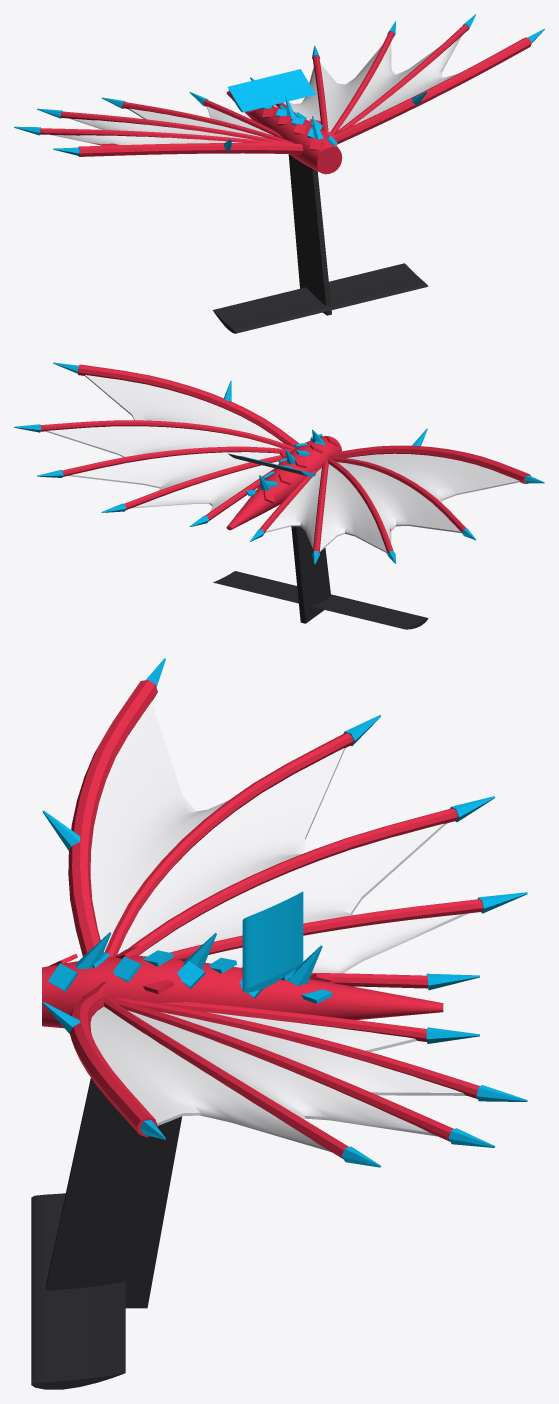
Rendered from dragon.glb.
The picture shows the model from 3 angles, top to bottom: view 1: azimuth 30°, elevation 25°; view 2: azimuth 150°, elevation 25°; view 3: azimuth 270°, elevation 25°; orthographic projection. The views are drawn at different scales.
Visible parts, largest first — view 1: RearWing_dragon, DRSFlap_dragon; view 2: RearWing_dragon, DRSFlap_dragon; view 3: RearWing_dragon, DRSFlap_dragon.
Part boxes in pixels (x1,y1,x2,y2): RearWing_dragon: (14,14,544,333); DRSFlap_dragon: (228,69,315,112); RearWing_dragon: (14,362,544,629); DRSFlap_dragon: (228,453,315,476); RearWing_dragon: (31,658,527,1389); DRSFlap_dragon: (242,891,303,992).
Size of the model in its own units: 2.15 by 0.8515 by 0.9394.
